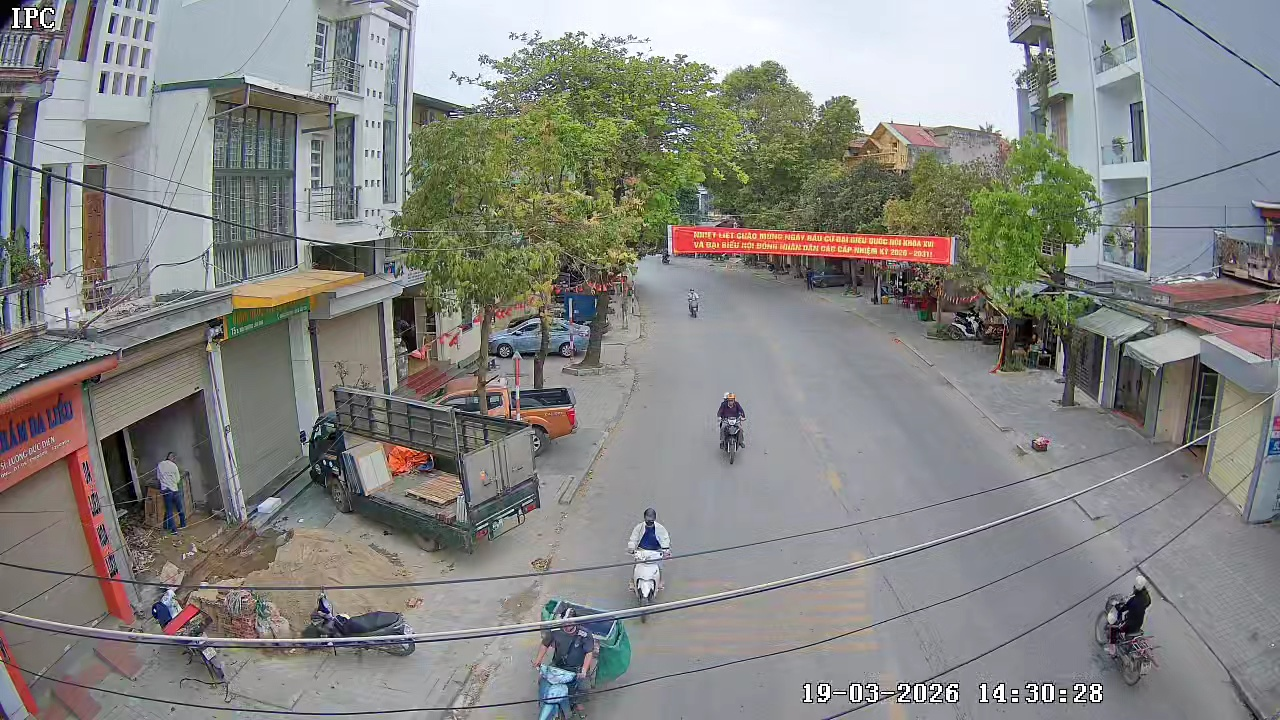car: (510, 384, 577, 451)
motorbike: (1094, 572, 1160, 687), (532, 607, 596, 719), (625, 505, 675, 607), (715, 390, 748, 467), (686, 288, 701, 319)
pedestrian: (154, 452, 190, 534)
